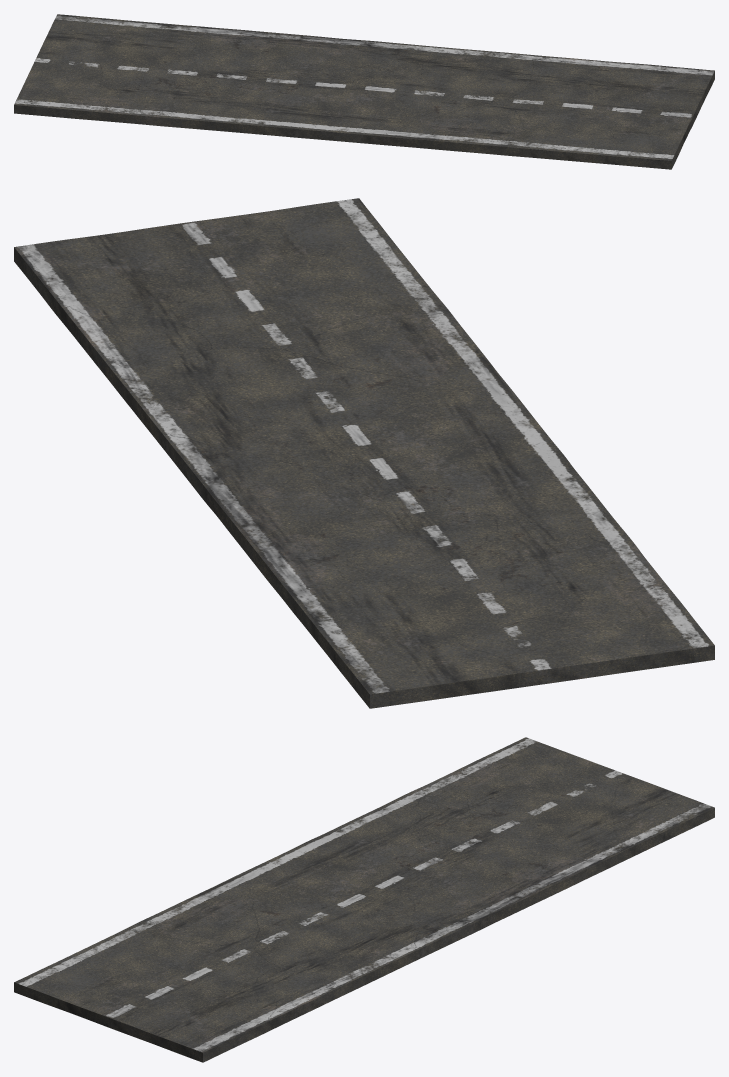
The model's file is highway_road.obj.
The picture shows the model from 3 angles, top to bottom: view 1: azimuth 30°, elevation 25°; view 2: azimuth 150°, elevation 25°; view 3: azimuth 270°, elevation 25°; orthographic projection. The views are drawn at different scales.
Visible parts, largest first — view 1: obj1; view 2: obj1; view 3: obj1.
Part boxes in pixels (box(x1,y1,x2,y2)): obj1: box(14, 14, 714, 169); obj1: box(14, 198, 714, 708); obj1: box(14, 737, 714, 1062).
Bounding box in the file's own units: 21.95 × 0.3364 × 20.6.
1 material, 1 textured.
